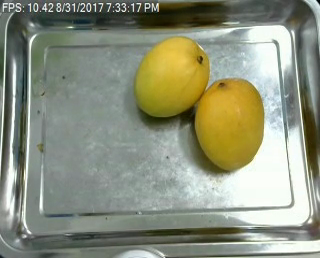Mango: (194, 77, 264, 169), (134, 37, 209, 118)
